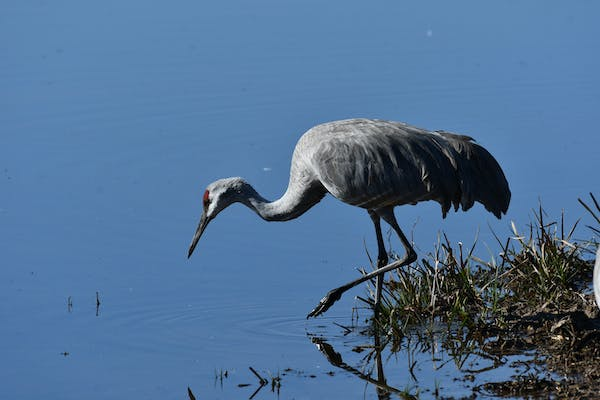Walking: (165, 86, 559, 399)
